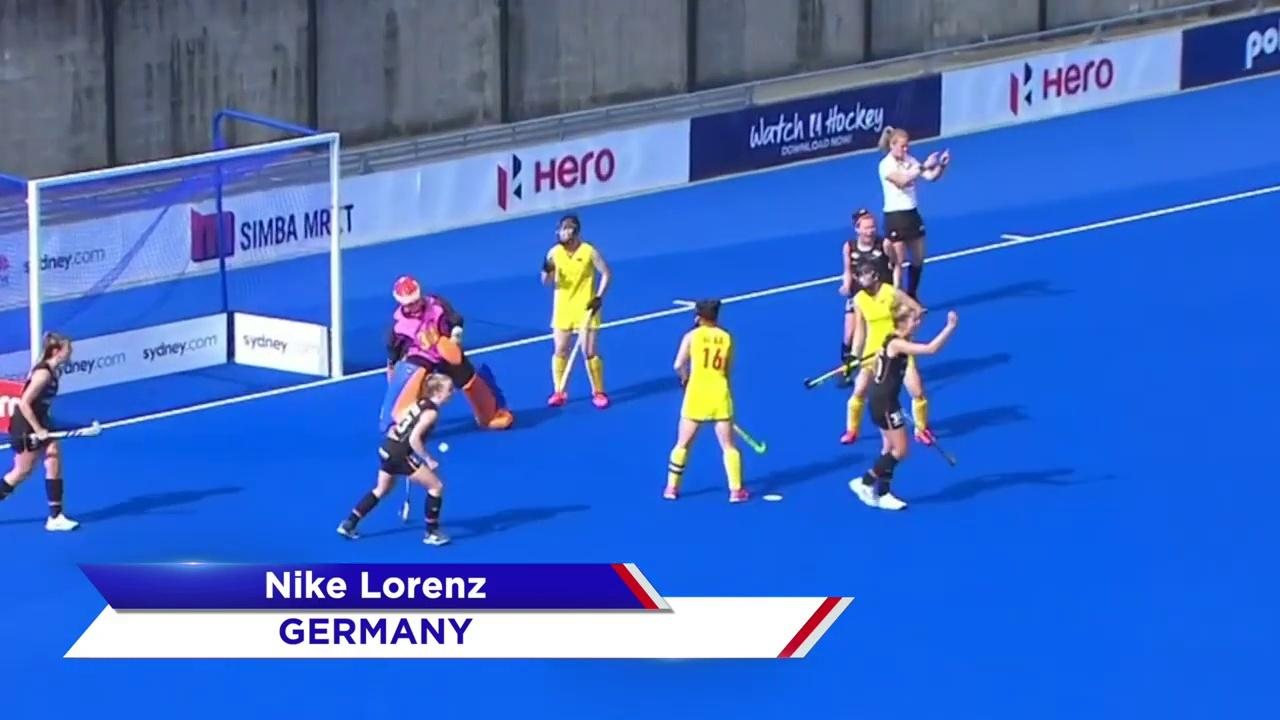ball: (435, 431, 456, 454)
